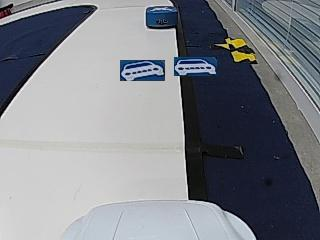prop: (146, 6, 177, 30)
